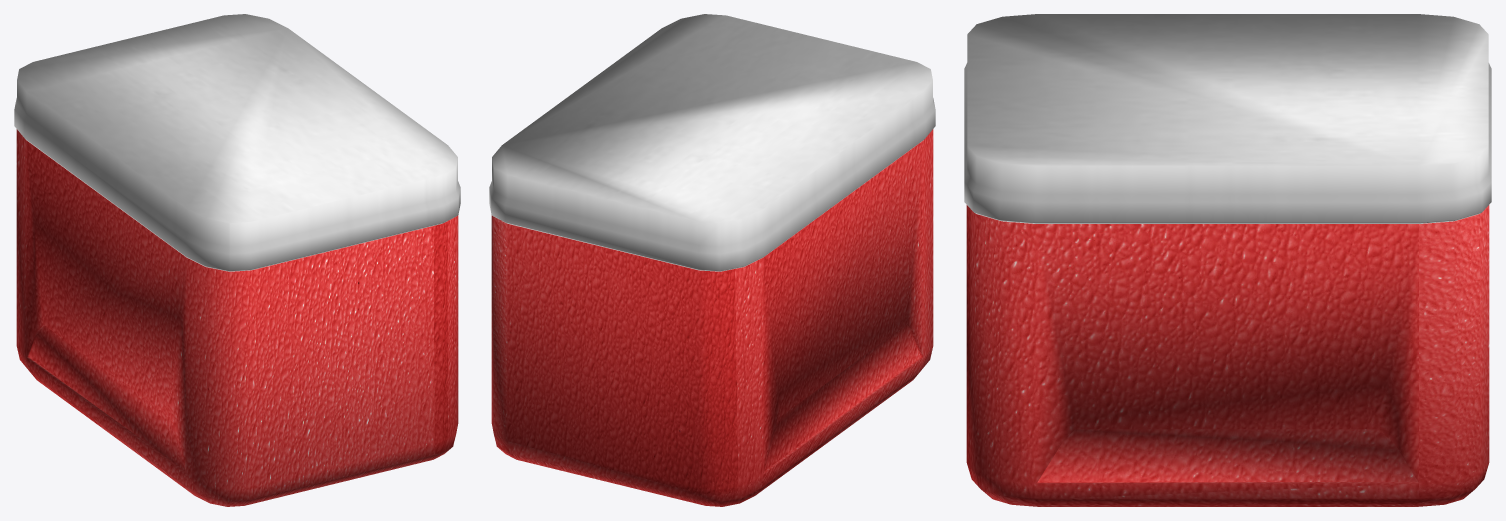
File: Cooler.fbx
The picture shows the model from 3 angles, left to right: view 1: azimuth 30°, elevation 25°; view 2: azimuth 150°, elevation 25°; view 3: azimuth 270°, elevation 25°; orthographic projection. The views are drawn at different scales.
Parts seen in each view (by area): view 1: Cube, Cube.001; view 2: Cube, Cube.001; view 3: Cube, Cube.001.
Part boxes in pixels (x1=…): Cube: x1=16, y1=129, x2=458, y2=506; Cube.001: x1=14, y1=14, x2=460, y2=271; Cube: x1=491, y1=129, x2=933, y2=506; Cube.001: x1=489, y1=14, x2=935, y2=271; Cube: x1=966, y1=205, x2=1489, y2=506; Cube.001: x1=964, y1=14, x2=1491, y2=223.
Size of the model in its own units: 140 by 148 by 202.
